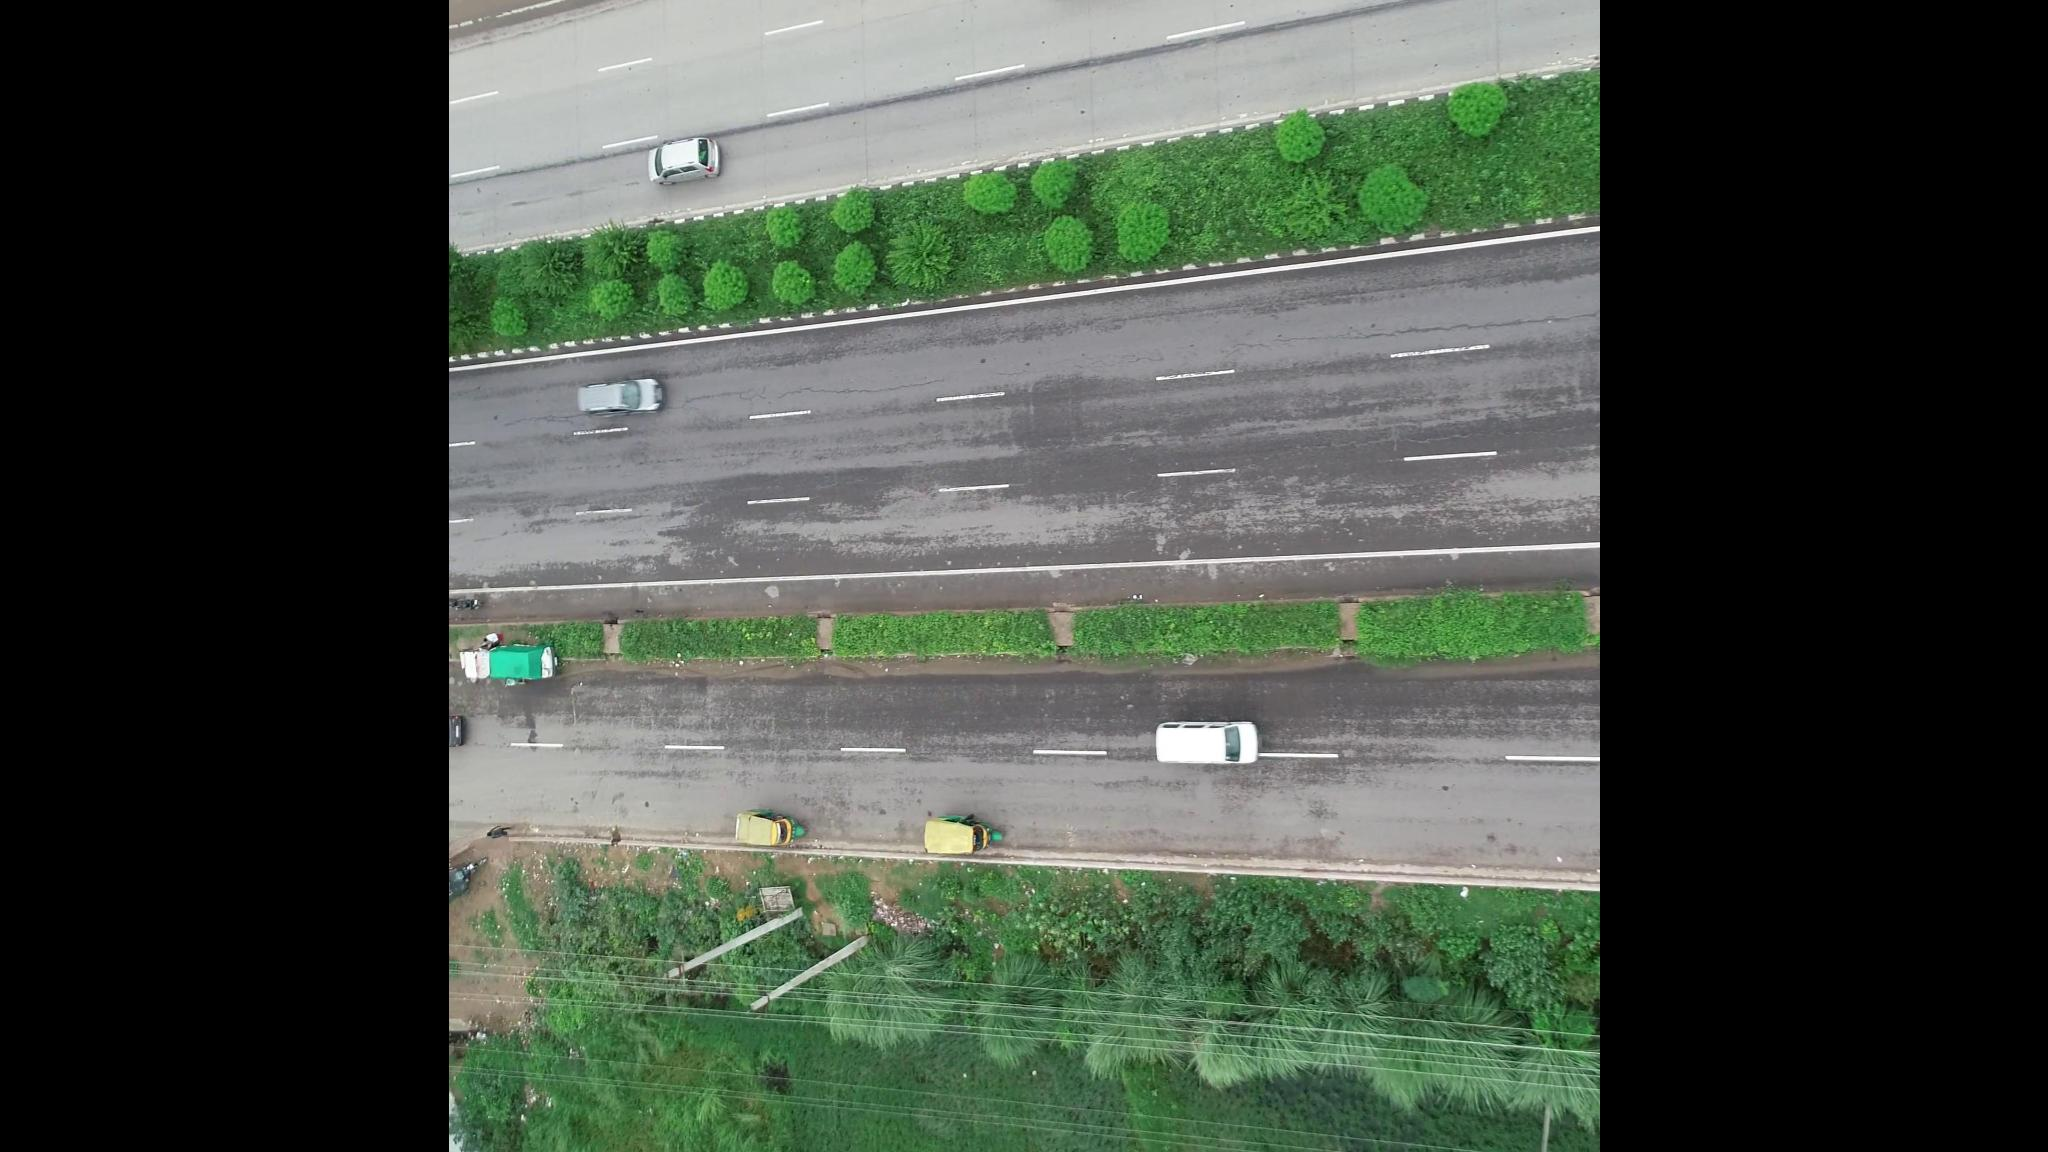Cracks: (1232, 307, 1594, 357), (670, 364, 959, 418)
